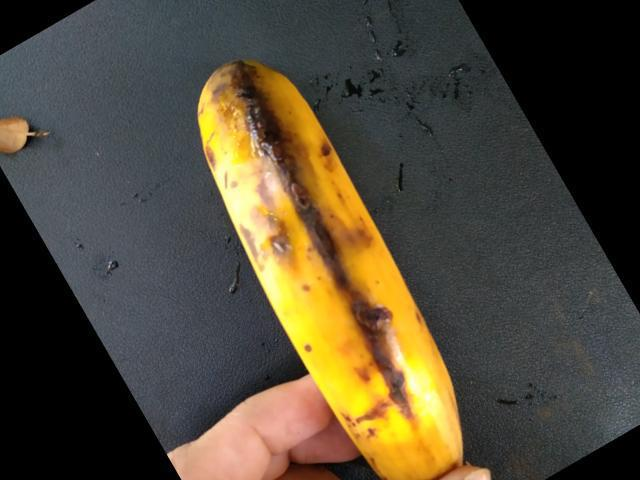overripe: (216, 192, 472, 479)
rotten: (186, 54, 378, 270)
